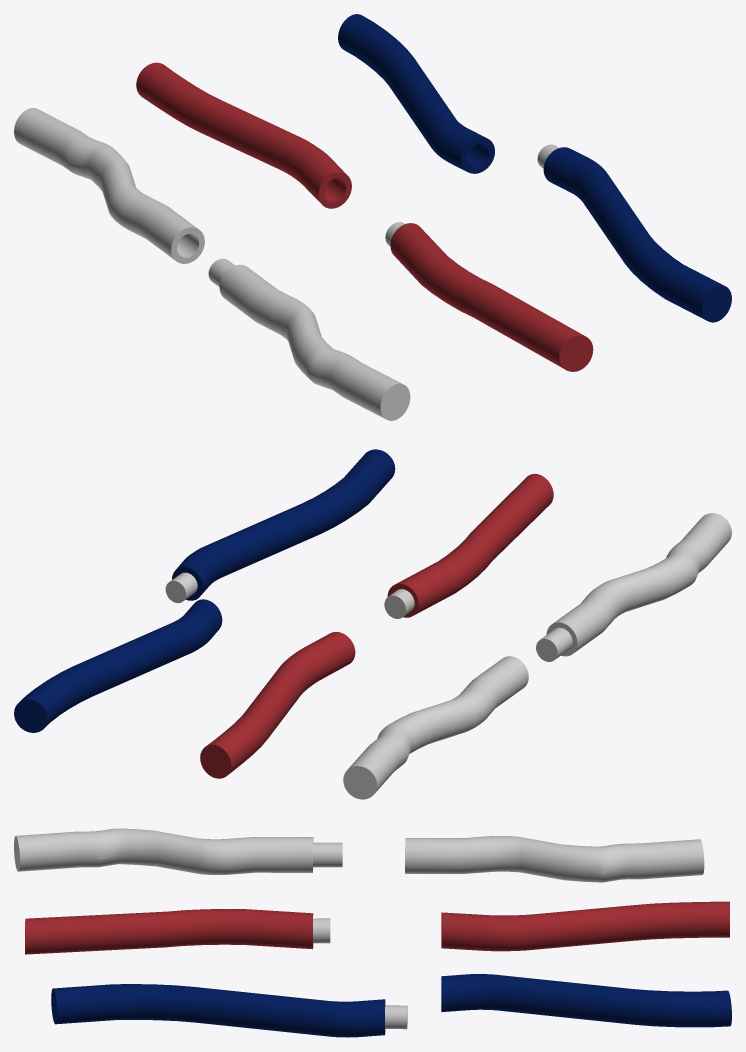
File: kablolarrevize.fbx
The picture shows the model from 3 angles, top to bottom: view 1: azimuth 30°, elevation 25°; view 2: azimuth 150°, elevation 25°; view 3: azimuth 270°, elevation 25°; orthographic projection. The views are drawn at different scales.
Parts seen in each view (by area): view 1: Circle.011, Circle.002, Circle.010, Circle.012, Circle.013, Circle.007; view 2: Circle.002, Circle.007, Circle.013, Circle.012, Circle.011, Circle.010, Circle.008, Circle.001, Circle.009; view 3: Circle.002, Circle.013, Circle.012, Circle.007, Circle.011, Circle.010, Circle.008, Circle.001, Circle.009.
Part boxes in pixels (bbox=[...]): Circle.011: bbox=[136, 62, 351, 208]; Circle.002: bbox=[543, 147, 731, 322]; Circle.010: bbox=[390, 223, 593, 371]; Circle.012: bbox=[219, 264, 410, 420]; Circle.013: bbox=[14, 108, 204, 263]; Circle.007: bbox=[338, 14, 494, 173]; Circle.002: bbox=[172, 449, 395, 600]; Circle.007: bbox=[14, 599, 222, 732]; Circle.013: bbox=[343, 656, 528, 799]; Circle.012: bbox=[546, 513, 731, 656]; Circle.011: bbox=[200, 632, 355, 778]; Circle.010: bbox=[387, 473, 553, 617]; Circle.008: bbox=[536, 627, 572, 661]; Circle.001: bbox=[165, 572, 197, 603]; Circle.009: bbox=[384, 589, 414, 618]; Circle.002: bbox=[51, 984, 385, 1037]; Circle.013: bbox=[405, 836, 704, 882]; Circle.012: bbox=[14, 828, 313, 874]; Circle.007: bbox=[441, 974, 731, 1027]; Circle.011: bbox=[441, 901, 729, 951]; Circle.010: bbox=[25, 909, 313, 954]; Circle.008: bbox=[313, 842, 342, 867]; Circle.001: bbox=[385, 1005, 407, 1029]; Circle.009: bbox=[313, 918, 330, 943].
Size of the model in its own units: 296 by 24 by 478.
